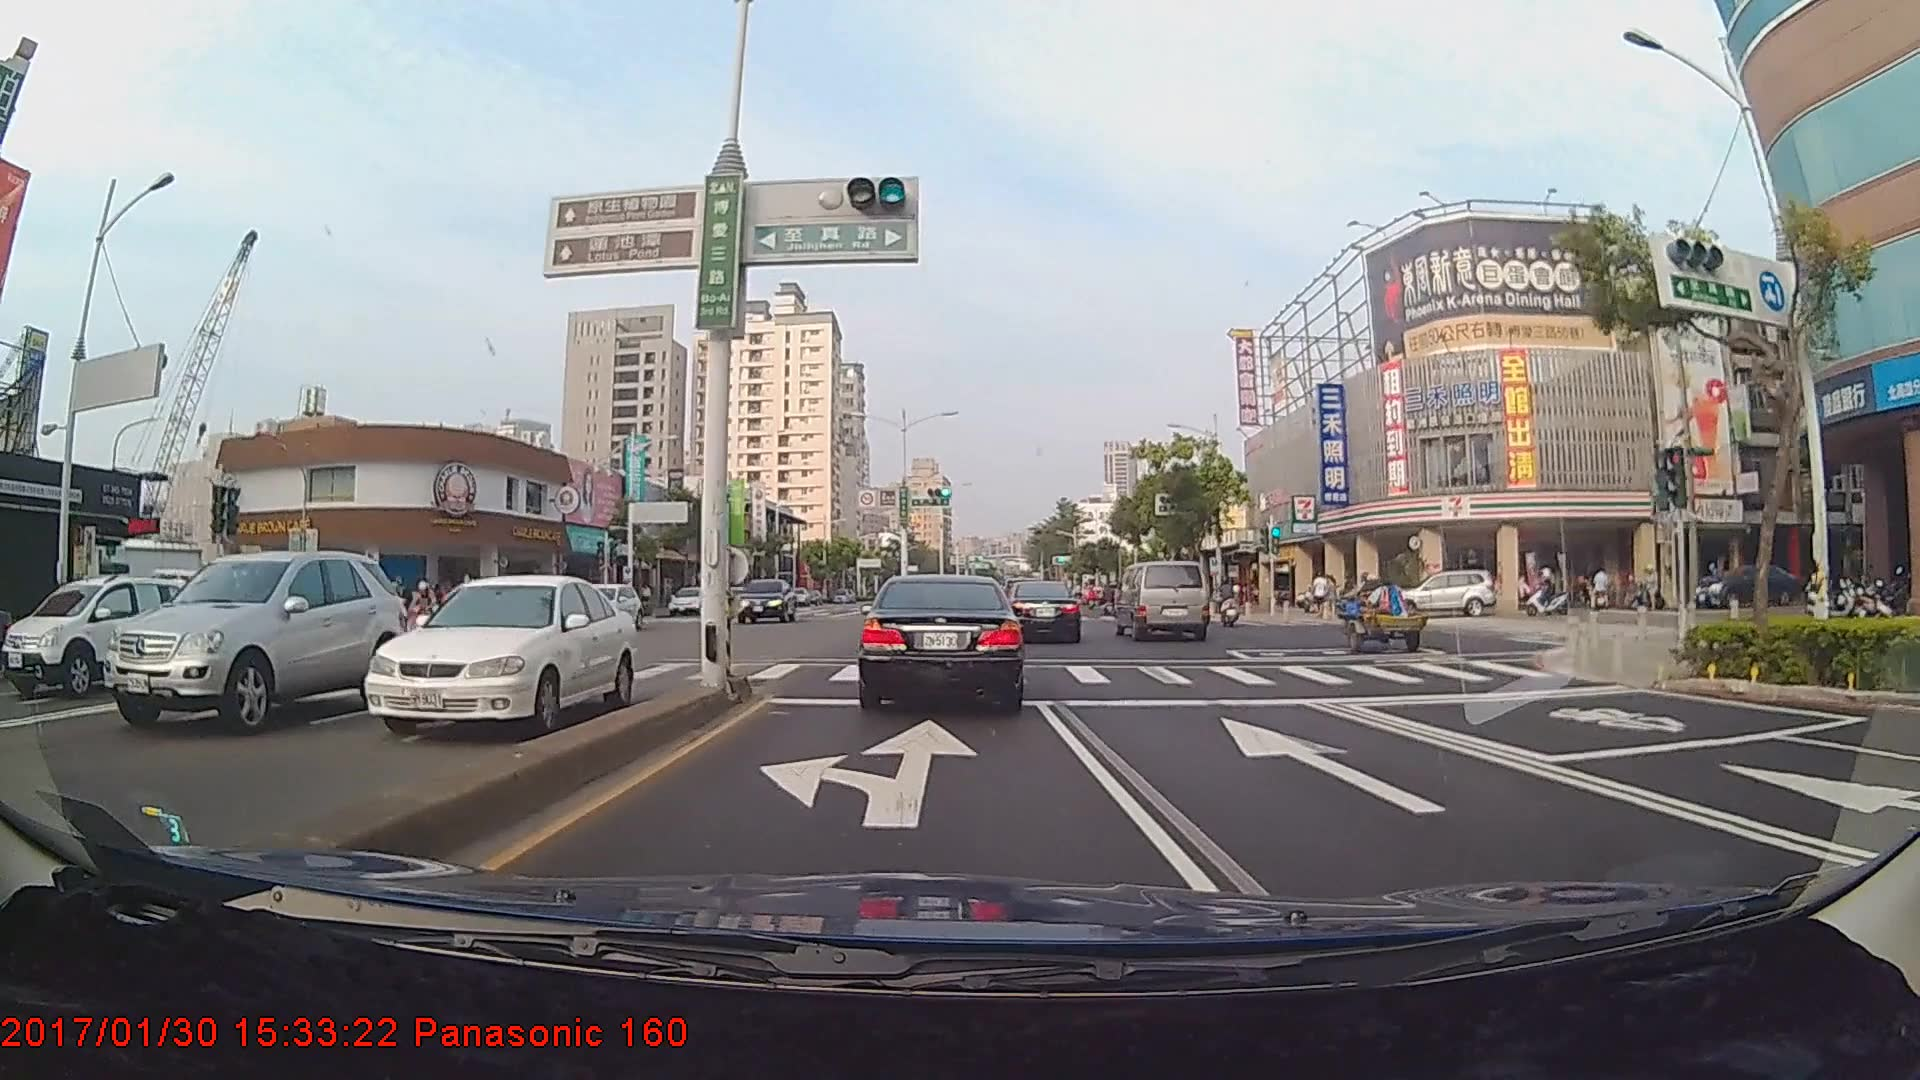pedestrian: (1311, 571, 1331, 620)
rider: (1519, 559, 1573, 619), (400, 580, 450, 642), (1211, 580, 1246, 633)
vehicle: (100, 546, 396, 733), (360, 573, 640, 734), (13, 567, 198, 704), (858, 570, 1025, 710), (1117, 559, 1210, 642), (1007, 579, 1082, 644), (1412, 569, 1496, 619), (576, 579, 642, 636), (734, 577, 796, 624), (667, 586, 708, 617)
